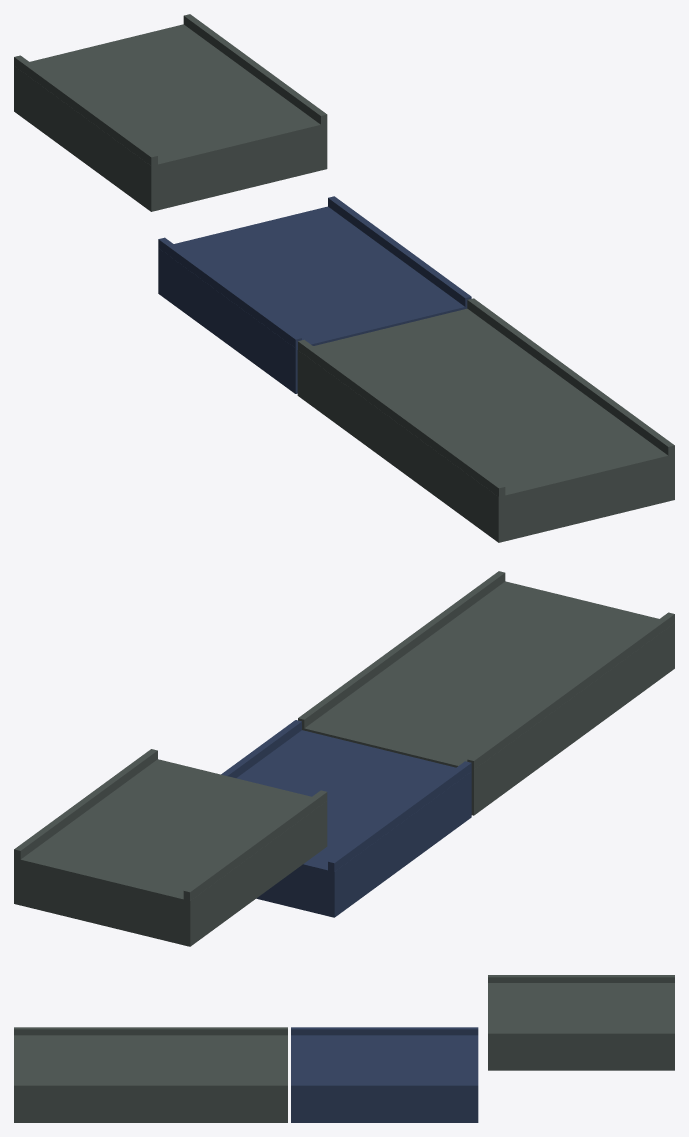
3 renders of one model, top to bottom at view 1: azimuth 30°, elevation 25°; view 2: azimuth 150°, elevation 25°; view 3: azimuth 270°, elevation 25°, orthographic. The views are drawn at different scales.
Parts seen in each view (by area): view 1: 3, 1, 2; view 2: 3, 1, 2; view 3: 3, 2, 1.
Boxes of the visible parts, x1,y1,x2,y2 form: 3: [297, 298, 674, 542]; 1: [14, 14, 327, 211]; 2: [158, 196, 471, 393]; 3: [298, 571, 674, 815]; 1: [14, 749, 327, 946]; 2: [221, 720, 471, 917]; 3: [14, 1027, 287, 1122]; 2: [291, 1027, 478, 1122]; 1: [488, 975, 674, 1070].
Size of the model in its own units: 444 by 316 by 2118.
